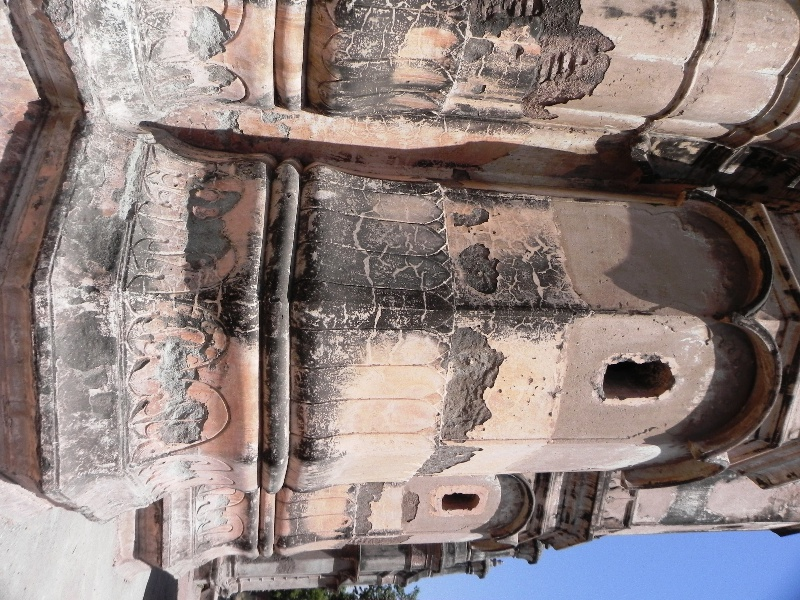Exposed Bricks: (540, 45, 582, 84)
Spalling: (445, 321, 507, 442), (180, 192, 236, 269), (456, 239, 502, 297), (420, 441, 482, 477), (453, 212, 501, 229)
